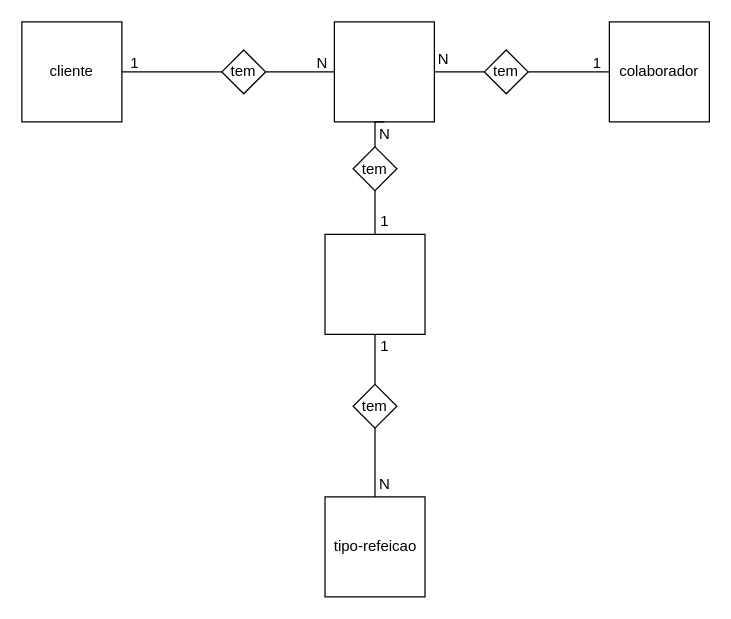
The diagram is 731 pixels wide and 619 high, and some of its shapes have lost their labels. The shapes that lost their labels are listed below. From the top down, each one's centre as x and y in pixels, then its label:
At pixel 383 71: "pedido".
At pixel 374 283: "cardapio".
